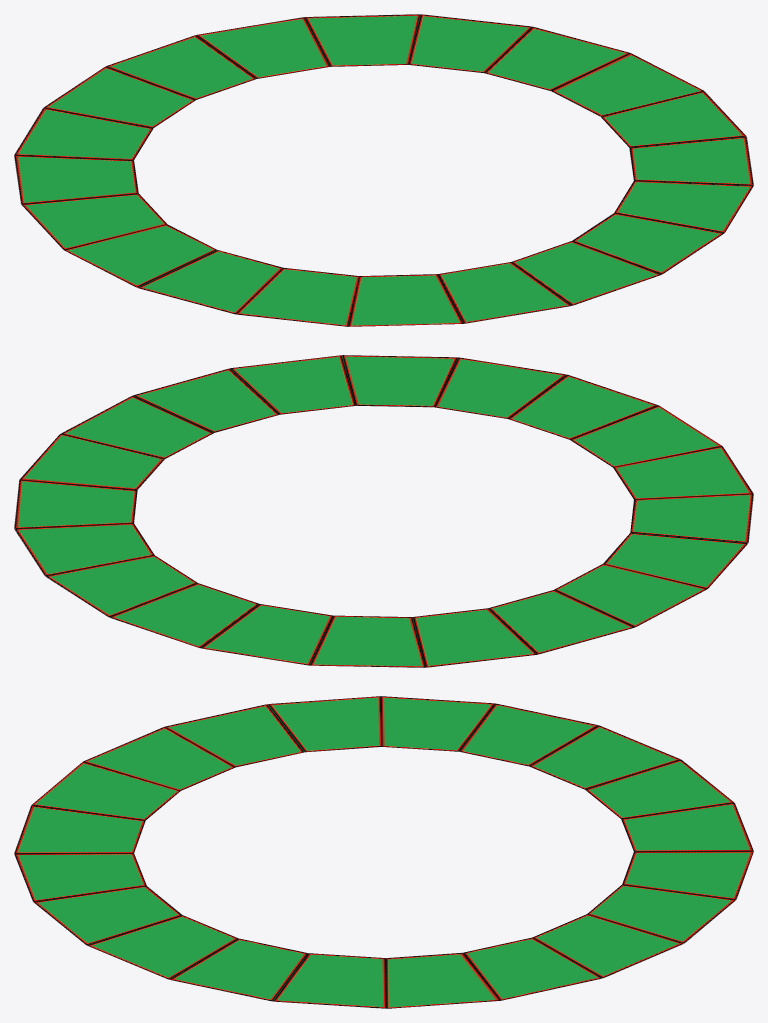
File: Goal.fbx
The picture shows the model from 3 angles, top to bottom: view 1: azimuth 30°, elevation 25°; view 2: azimuth 150°, elevation 25°; view 3: azimuth 270°, elevation 25°; orthographic projection.
Parts seen in each view (by area): view 1: Goal; view 2: Goal; view 3: Goal.
Part boxes in pixels (bbox=[...]): Goal: bbox=[14, 14, 753, 326]; Goal: bbox=[14, 355, 753, 667]; Goal: bbox=[14, 696, 753, 1008].
Bounding box in the file's own units: 2 × 8.74e-08 × 2.
